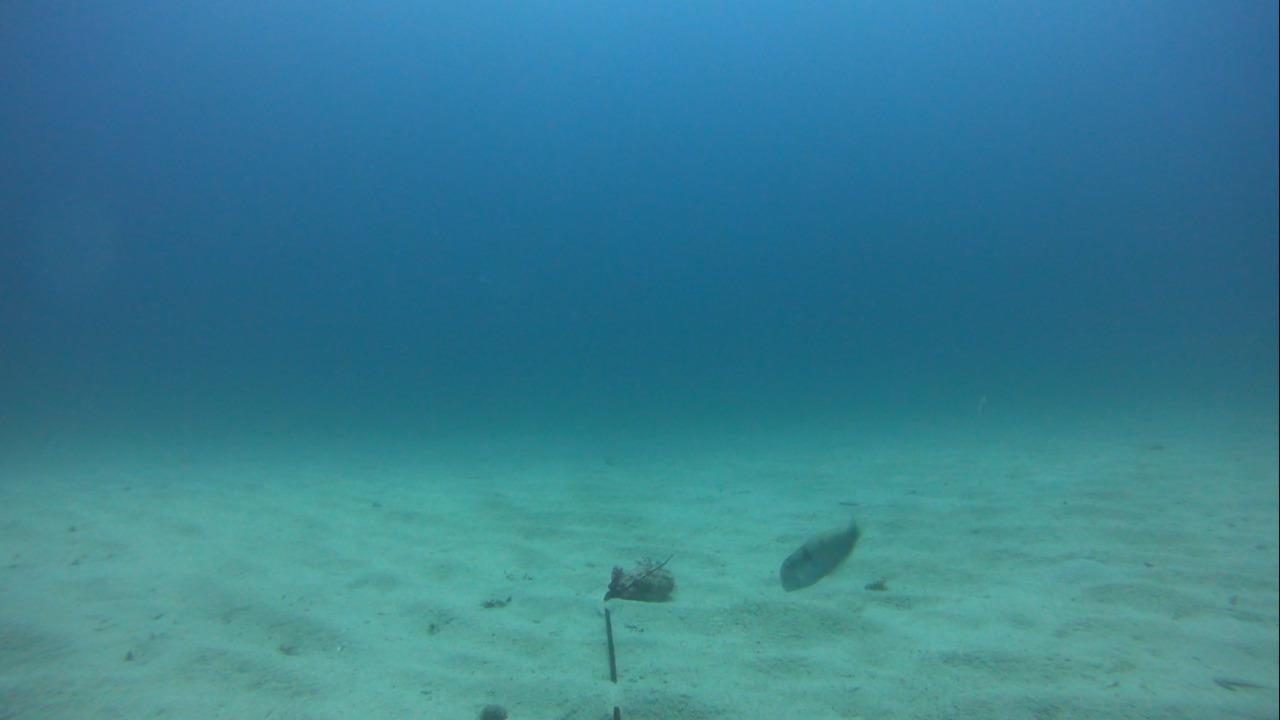raor: (773, 515, 868, 594)
